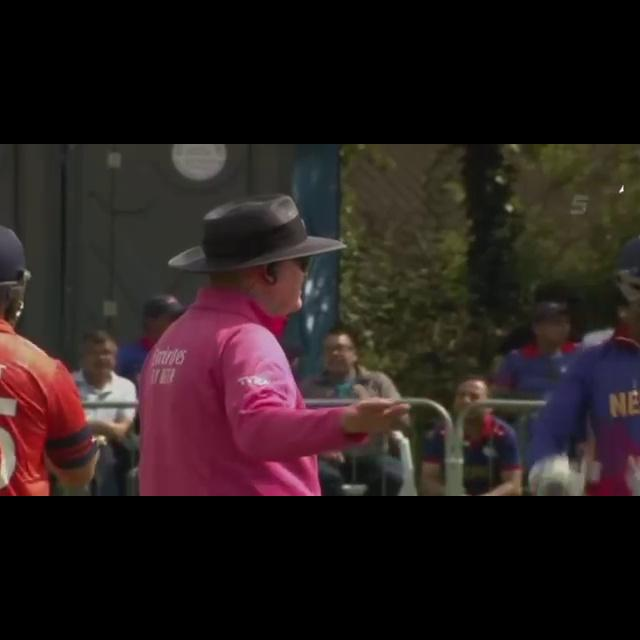umpire: (127, 189, 454, 496)
